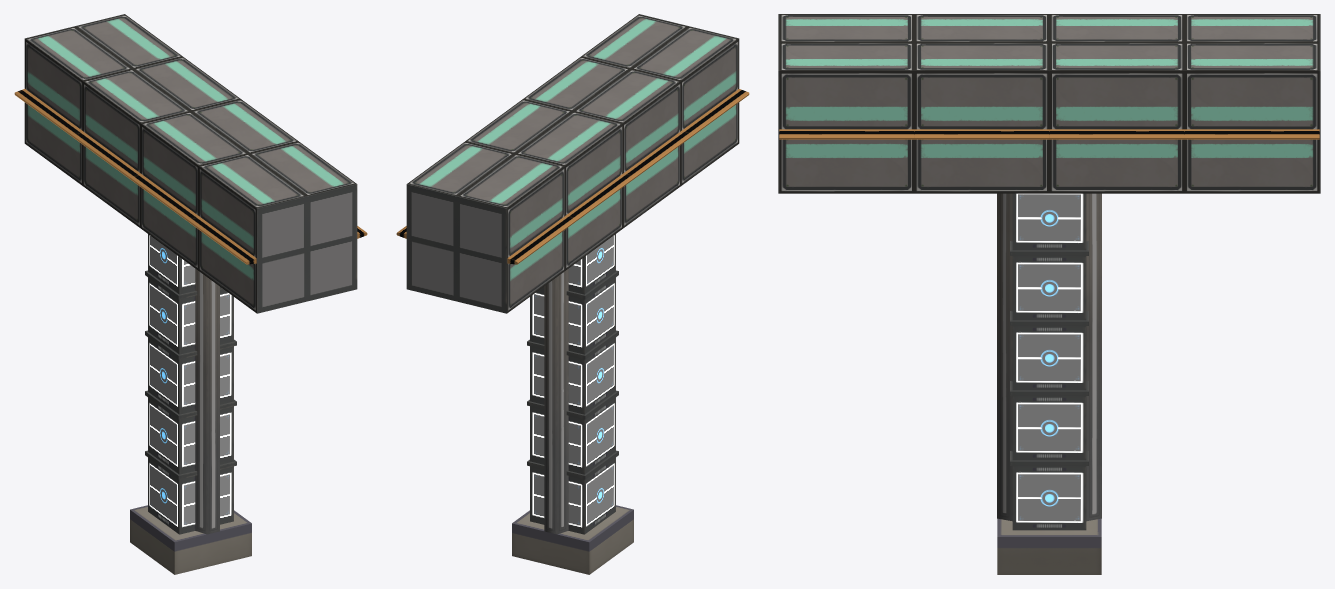
The model's file is Sci-Fi_Prefab_Var7.fbx.
The picture shows the model from 3 angles, left to right: view 1: azimuth 30°, elevation 25°; view 2: azimuth 150°, elevation 25°; view 3: azimuth 270°, elevation 25°; orthographic projection. The views are drawn at different scales.
Parts seen in each view (by area): view 1: ProjectRG_Environment_Sci-Fi_TowerPanel_Var0_A.005, ProjectRG_Environment_Sci-Fi_TallTowerSupport.019, ProjectRG_Environment_Sci-Fi_ModBlock_Long.015, ProjectRG_Environment_Sci-Fi_ModBlock_Long.005, ProjectRG_Environment_Sci-Fi_ModBlock_Long.006, ProjectRG_Environment_Sci-Fi_ModBlock_Long.011, ProjectRG_Environment_Sci-Fi_BaseFoundation_Small.002, ProjectRG_Environment_Sci-Fi_TowerTopBlockPiece_Var2.003, ProjectRG_Environment_Sci-Fi_TowerTopBlockPiece_Var2.004, ProjectRG_Environment_Sci-Fi_TowerTopBlockPiece_Var2.005, ProjectRG_Environment_Sci-Fi_TowerTopBlockPiece_Var2.002, ProjectRG_Environment_Sci-Fi_ModBlock_Long.007 (+12 smaller); view 2: ProjectRG_Environment_Sci-Fi_TowerPanel_Var0_A.003, ProjectRG_Environment_Sci-Fi_TallTowerSupport.018, ProjectRG_Environment_Sci-Fi_ModBlock_Long.011, ProjectRG_Environment_Sci-Fi_ModBlock_Long.006, ProjectRG_Environment_Sci-Fi_ModBlock_Long.005, ProjectRG_Environment_Sci-Fi_ModBlock_Long.015, ProjectRG_Environment_Sci-Fi_BaseFoundation_Small.002, ProjectRG_Environment_Sci-Fi_TowerTopBlockPiece_Var2.003, ProjectRG_Environment_Sci-Fi_TowerTopBlockPiece_Var2.004, ProjectRG_Environment_Sci-Fi_TowerTopBlockPiece_Var2.005, ProjectRG_Environment_Sci-Fi_TowerTopBlockPiece_Var2.002, ProjectRG_Environment_Sci-Fi_ModBlock_Long.008 (+12 smaller); view 3: ProjectRG_Environment_Sci-Fi_ModBlock_Long.007, ProjectRG_Environment_Sci-Fi_ModBlock_Long.008, ProjectRG_Environment_Sci-Fi_ModBlock_Long.012, ProjectRG_Environment_Sci-Fi_ModBlock_Long.016, ProjectRG_Environment_Sci-Fi_ModBlock_Long.017, ProjectRG_Environment_Sci-Fi_ModBlock_Long.018, ProjectRG_Environment_Sci-Fi_ModBlock_Long.019, ProjectRG_Environment_Sci-Fi_ModBlock_Long.020, ProjectRG_Environment_Sci-Fi_TallTowerSupport.018, ProjectRG_Environment_Sci-Fi_TallTowerSupport.019, ProjectRG_Environment_Sci-Fi_BaseFoundation_Small.002, ProjectRG_Environment_Sci-Fi_TowerTopBlockPiece_Var2.002 (+12 smaller).
Boxes of the visible parts, box(x1,y1,x2,y2) form: ProjectRG_Environment_Sci-Fi_TowerPanel_Var0_A.005: box(256, 184, 357, 313); ProjectRG_Environment_Sci-Fi_TallTowerSupport.019: box(195, 269, 219, 534); ProjectRG_Environment_Sci-Fi_ModBlock_Long.015: box(198, 154, 306, 257); ProjectRG_Environment_Sci-Fi_ModBlock_Long.005: box(83, 69, 190, 173); ProjectRG_Environment_Sci-Fi_ModBlock_Long.006: box(141, 111, 248, 215); ProjectRG_Environment_Sci-Fi_ModBlock_Long.011: box(25, 26, 132, 130); ProjectRG_Environment_Sci-Fi_BaseFoundation_Small.002: box(130, 505, 251, 574); ProjectRG_Environment_Sci-Fi_TowerTopBlockPiece_Var2.003: box(148, 337, 233, 414); ProjectRG_Environment_Sci-Fi_TowerTopBlockPiece_Var2.004: box(148, 397, 233, 474); ProjectRG_Environment_Sci-Fi_TowerTopBlockPiece_Var2.005: box(148, 457, 233, 534); ProjectRG_Environment_Sci-Fi_TowerTopBlockPiece_Var2.002: box(148, 277, 233, 354); ProjectRG_Environment_Sci-Fi_ModBlock_Long.007: box(191, 99, 298, 153); ProjectRG_Environment_Sci-Fi_TowerPanel_Var0_A.003: box(406, 184, 507, 313); ProjectRG_Environment_Sci-Fi_TallTowerSupport.018: box(544, 269, 568, 534); ProjectRG_Environment_Sci-Fi_ModBlock_Long.011: box(457, 154, 565, 257); ProjectRG_Environment_Sci-Fi_ModBlock_Long.006: box(573, 69, 680, 173); ProjectRG_Environment_Sci-Fi_ModBlock_Long.005: box(515, 111, 622, 215); ProjectRG_Environment_Sci-Fi_ModBlock_Long.015: box(631, 26, 738, 130); ProjectRG_Environment_Sci-Fi_BaseFoundation_Small.002: box(512, 505, 633, 574); ProjectRG_Environment_Sci-Fi_TowerTopBlockPiece_Var2.003: box(530, 337, 615, 414); ProjectRG_Environment_Sci-Fi_TowerTopBlockPiece_Var2.004: box(530, 397, 615, 474); ProjectRG_Environment_Sci-Fi_TowerTopBlockPiece_Var2.005: box(530, 457, 615, 534); ProjectRG_Environment_Sci-Fi_TowerTopBlockPiece_Var2.002: box(530, 277, 615, 354); ProjectRG_Environment_Sci-Fi_ModBlock_Long.008: box(465, 99, 572, 153); ProjectRG_Environment_Sci-Fi_ModBlock_Long.007: box(914, 42, 1049, 129); ProjectRG_Environment_Sci-Fi_ModBlock_Long.008: box(1049, 42, 1184, 129); ProjectRG_Environment_Sci-Fi_ModBlock_Long.012: box(779, 42, 914, 129); ProjectRG_Environment_Sci-Fi_ModBlock_Long.016: box(1184, 42, 1319, 129); ProjectRG_Environment_Sci-Fi_ModBlock_Long.017: box(1049, 139, 1184, 193); ProjectRG_Environment_Sci-Fi_ModBlock_Long.018: box(914, 139, 1049, 193); ProjectRG_Environment_Sci-Fi_ModBlock_Long.019: box(1184, 139, 1319, 193); ProjectRG_Environment_Sci-Fi_ModBlock_Long.020: box(779, 139, 914, 193); ProjectRG_Environment_Sci-Fi_TallTowerSupport.018: box(1086, 193, 1101, 521); ProjectRG_Environment_Sci-Fi_TallTowerSupport.019: box(997, 193, 1012, 521); ProjectRG_Environment_Sci-Fi_BaseFoundation_Small.002: box(997, 518, 1101, 574); ProjectRG_Environment_Sci-Fi_TowerTopBlockPiece_Var2.002: box(1012, 256, 1086, 320).
Bounding box in the file's own units: 1209 × 4169 × 4016.
